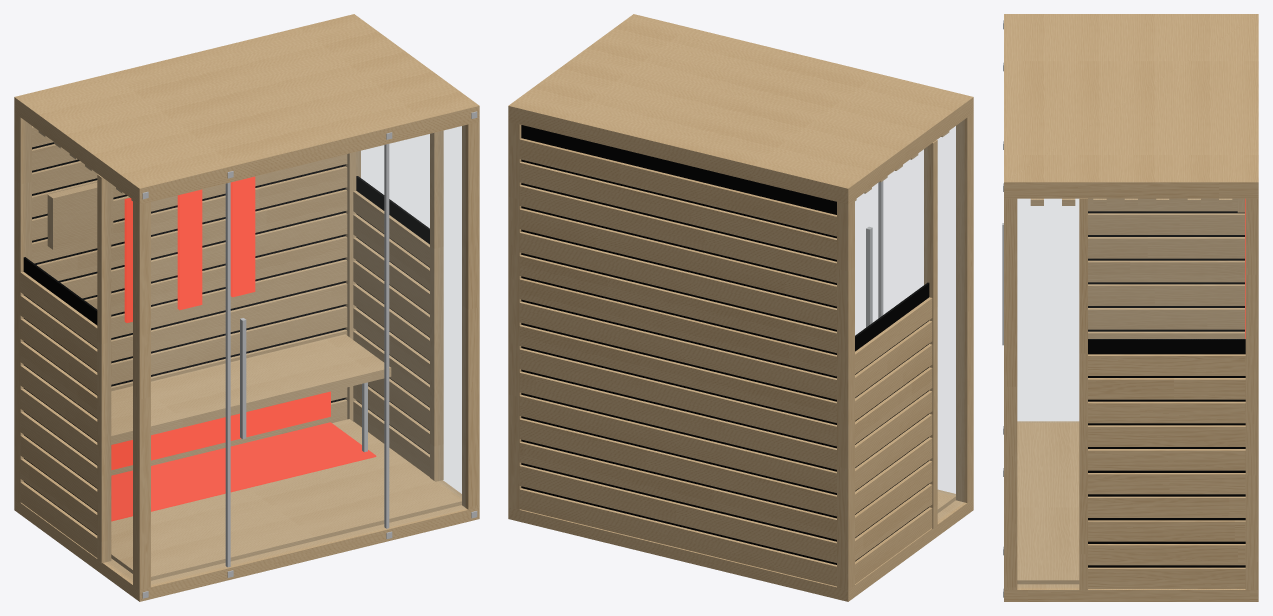
The model's file is nua-3.glb.
The picture shows the model from 3 angles, left to right: view 1: azimuth 30°, elevation 25°; view 2: azimuth 150°, elevation 25°; view 3: azimuth 270°, elevation 25°; orthographic projection.
Visible parts, largest first — view 1: pale, glass, heater, red, reveal, steel; view 2: pale, reveal, glass, steel; view 3: pale, glass, reveal.
Part boxes in pixels (box(x1,y1,x2,y2)): pale: box(14, 14, 479, 601); glass: box(356, 126, 461, 498); heater: box(111, 176, 330, 470); red: box(111, 422, 376, 521); reveal: box(23, 142, 429, 534); steel: box(142, 111, 477, 598); pale: box(508, 14, 973, 601); reveal: box(521, 125, 929, 564); glass: box(855, 126, 955, 496); steel: box(866, 181, 883, 327); pale: box(1004, 14, 1258, 601); glass: box(1017, 199, 1078, 422); reveal: box(1088, 211, 1245, 567).
Size of the model in its own units: 1.81 by 2.09 by 1.16.
Materials: 6 (1 with a texture image).
